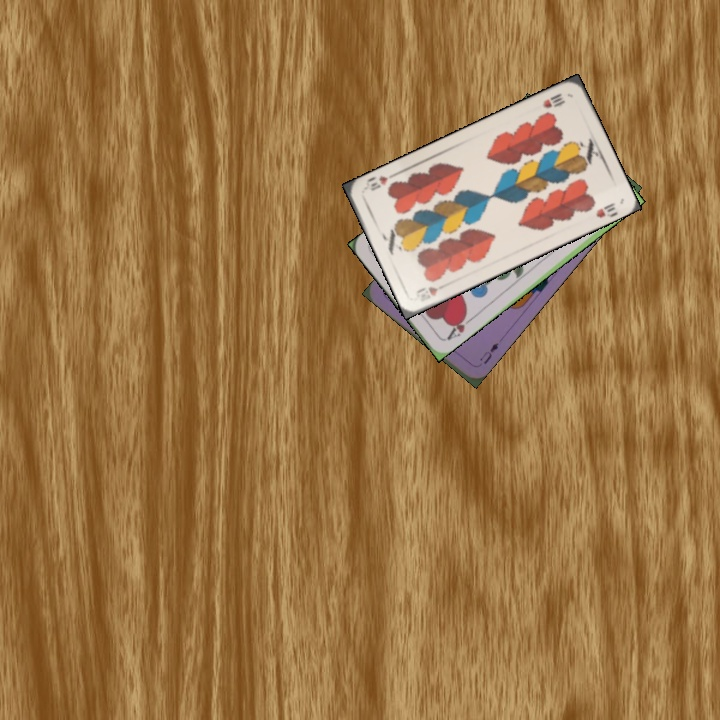EU: (476, 339, 501, 367)
H10: (538, 89, 568, 111), (412, 282, 441, 299)
HA: (441, 309, 476, 343)
